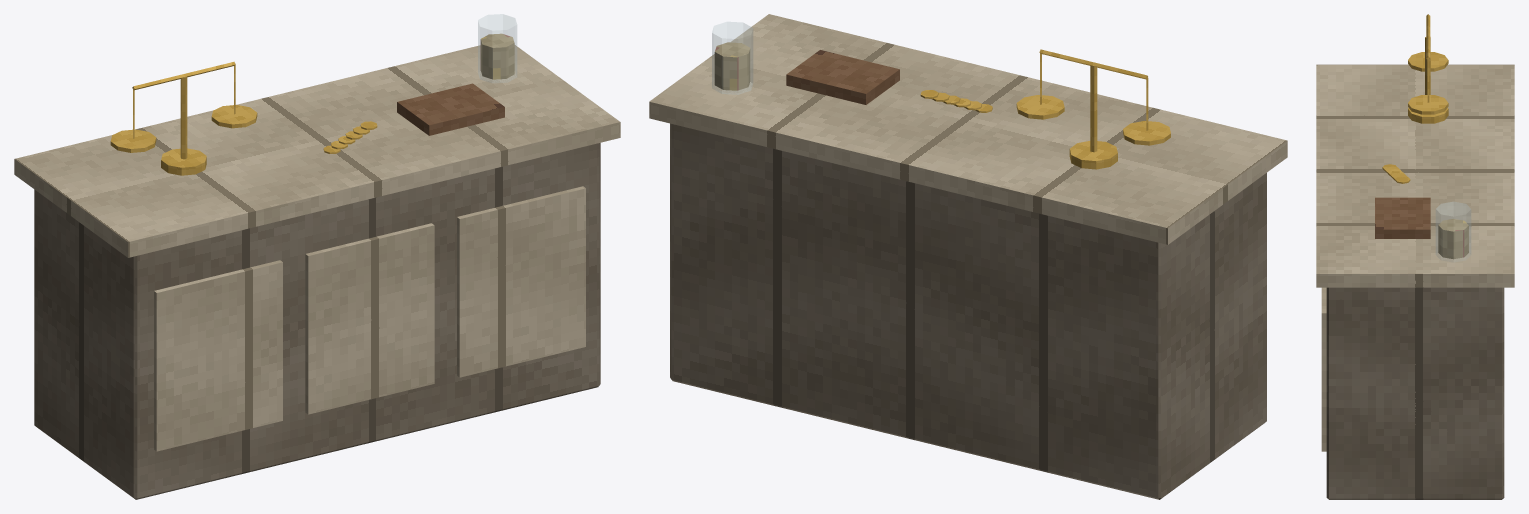
The model's file is shop_counter.glb.
The picture shows the model from 3 angles, left to right: view 1: azimuth 30°, elevation 25°; view 2: azimuth 150°, elevation 25°; view 3: azimuth 270°, elevation 25°; orthographic projection. The views are drawn at different scales.
Visible parts, largest first — view 1: body; view 2: body; view 3: body.
Part boxes in pixels (left/top/right/bottom): body: left=14, top=14, right=620, bottom=499; body: left=649, top=14, right=1287, bottom=499; body: left=1316, top=14, right=1514, bottom=499.
Size of the model in its own units: 1.95 by 1.36 by 0.78.
Materials: 6 (5 with a texture image).
